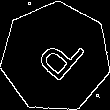P_SW: (25, 26, 86, 89)
